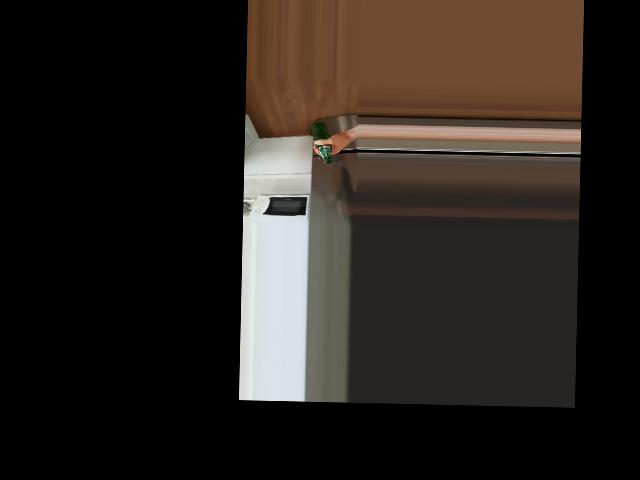beer: (311, 121, 333, 163)
